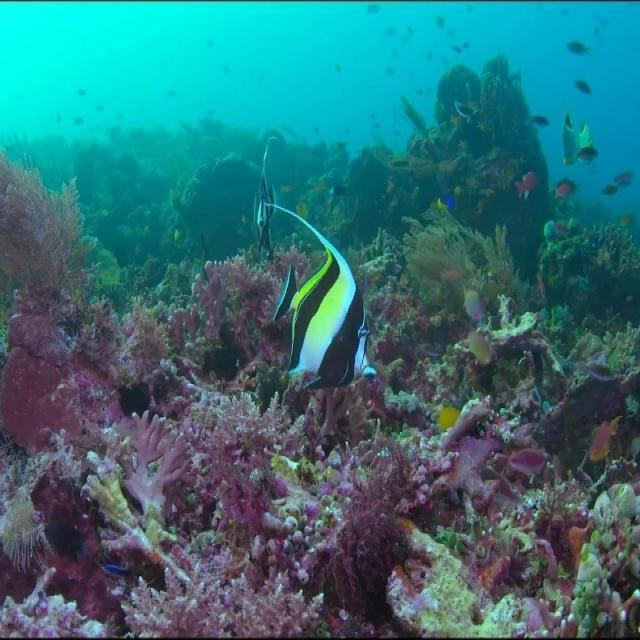aquatic plants: (307, 437, 430, 619), (1, 152, 102, 322), (124, 558, 328, 638), (189, 391, 294, 533), (407, 222, 536, 309)
fish: (265, 203, 376, 389), (254, 141, 273, 257), (588, 415, 622, 458)
reefs: (121, 407, 198, 511)
